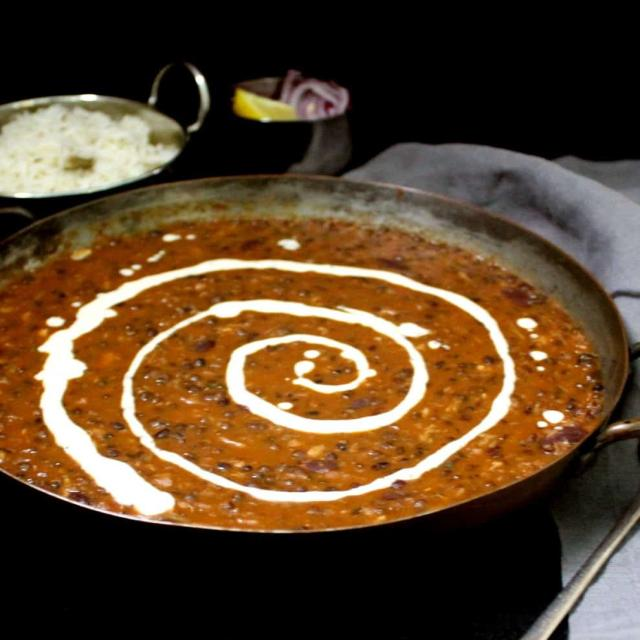dal_makhani: (4, 183, 618, 571)
